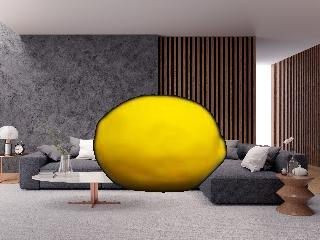lemon: (97, 96, 226, 191)
